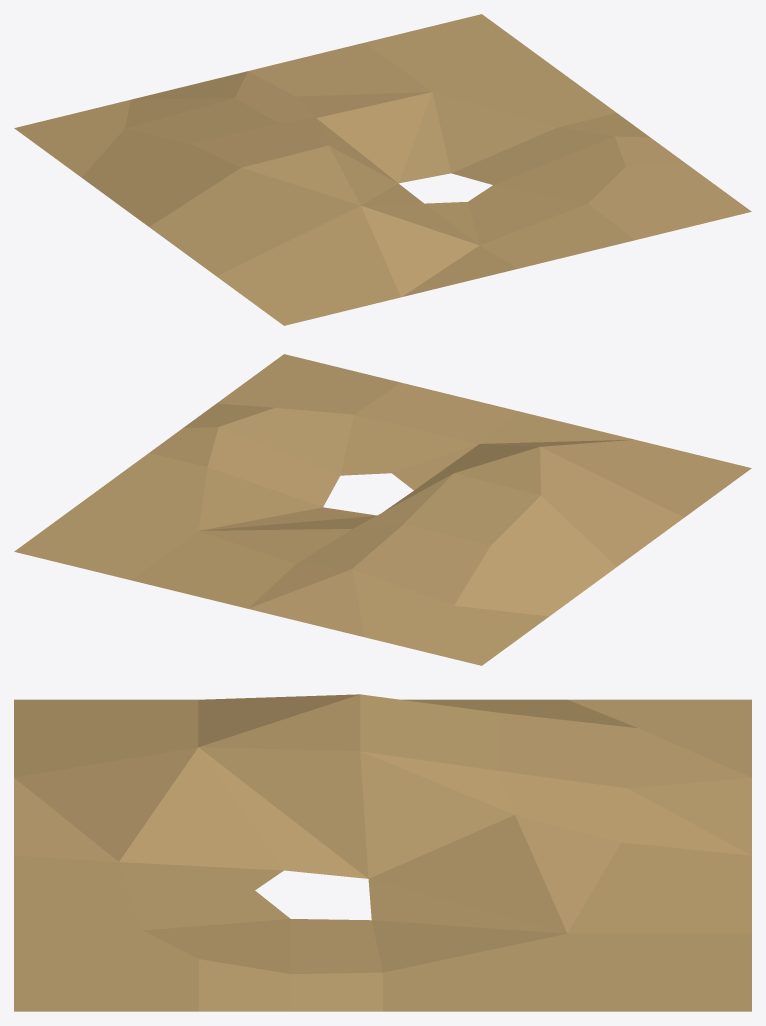
Rendered from FloorHole01.fbx.
The picture shows the model from 3 angles, top to bottom: view 1: azimuth 30°, elevation 25°; view 2: azimuth 150°, elevation 25°; view 3: azimuth 270°, elevation 25°; orthographic projection. The views are drawn at different scales.
Parts seen in each view (by area): view 1: FloorHole01; view 2: FloorHole01; view 3: FloorHole01.
Boxes of the visible parts, bbox=[...] form: FloorHole01: bbox=[14, 14, 751, 325]; FloorHole01: bbox=[14, 354, 751, 665]; FloorHole01: bbox=[14, 694, 751, 1011].
Size of the model in its own units: 2032 by 257 by 2032.
